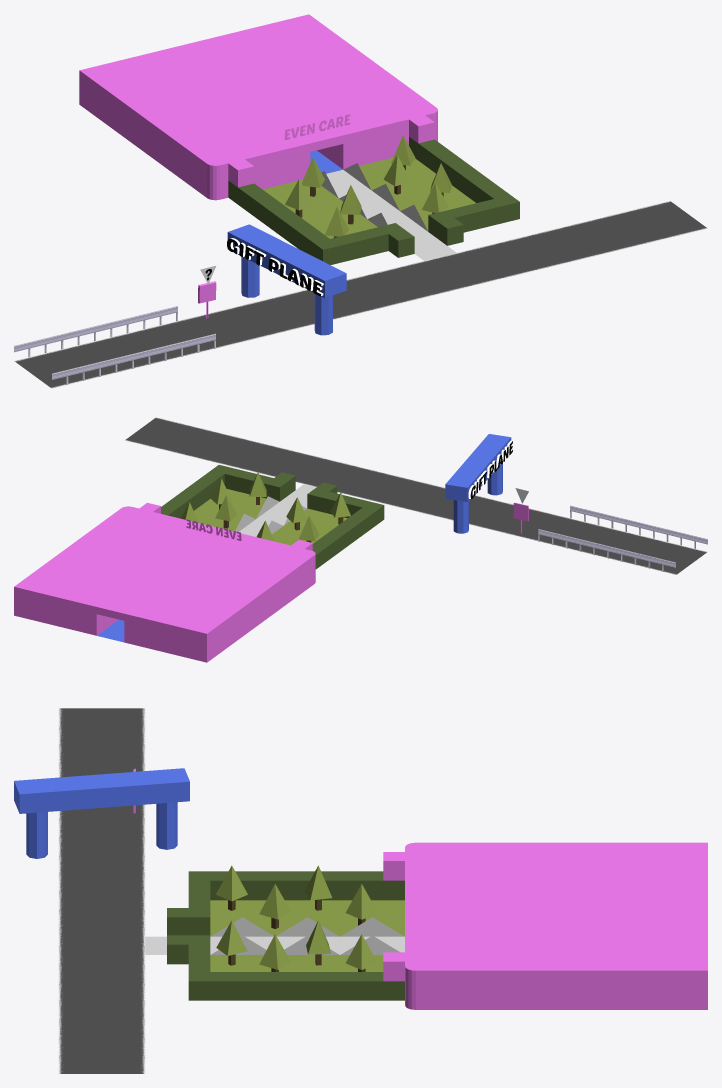
Rendered from Gift_Plane.glb.
3 renders of one model, top to bottom at view 1: azimuth 30°, elevation 25°; view 2: azimuth 150°, elevation 25°; view 3: azimuth 270°, elevation 25°, orthographic. The views are drawn at different scales.
Visible parts, largest first — view 1: Building, Road Object.003, Road Object.002, Bush, Road Object.001, Road Object, Bush.001, Cube, Grass.001, Walkway, Grass, Front Rail Object (+6 smaller); view 2: Building, Road Object.003, Road Object.002, Road Object, Road Object.001, Bush, Bush.001, Cube, Grass.001, Walkway, Grass, Front Rail Object (+2 smaller); view 3: Building, Road Object.002, Road Object.003, Bush.001, Road Object.001, Bush, Cube, Road Object, Grass, Grass.001, Walkway, Cylinder.001 (+10 smaller).
Part boxes in pixels (x1,y1,x2,y2): Building: (79, 14, 437, 200); Road Object.003: (506, 201, 707, 268); Road Object.002: (346, 241, 543, 308); Bush: (228, 181, 414, 264); Road Object.001: (178, 284, 379, 348); Road Object: (14, 321, 213, 388); Bush.001: (409, 137, 519, 245); Cube: (227, 224, 346, 297); Grass.001: (359, 157, 475, 231); Walkway: (326, 170, 456, 260); Grass: (263, 179, 377, 238); Front Rail Object: (14, 306, 177, 357); Building: (14, 506, 315, 662); Road Object.003: (125, 417, 293, 473); Road Object.002: (262, 451, 431, 507); Road Object: (540, 518, 707, 574); Road Object.001: (400, 484, 569, 541); Bush: (307, 482, 384, 569); Bush.001: (161, 465, 295, 518); Cube: (445, 434, 511, 502); Grass.001: (194, 489, 266, 531); Walkway: (239, 484, 315, 536); Grass: (272, 508, 347, 545); Front Rail Object: (538, 529, 675, 571); Building: (405, 842, 707, 1009); Road Object.002: (58, 891, 145, 982); Road Object.003: (58, 982, 145, 1073); Bush.001: (167, 935, 404, 1000); Road Object.001: (58, 804, 145, 890); Bush: (167, 871, 404, 935); Cube: (14, 768, 189, 813); Road Object: (58, 708, 145, 777); Grass: (210, 900, 404, 936); Grass.001: (210, 955, 383, 971); Walkway: (145, 936, 404, 954); Cylinder.001: (156, 802, 177, 849).
Size of the model in its own units: 40 by 3.5 by 32.07.
Materials: 11 (2 with a texture image).
